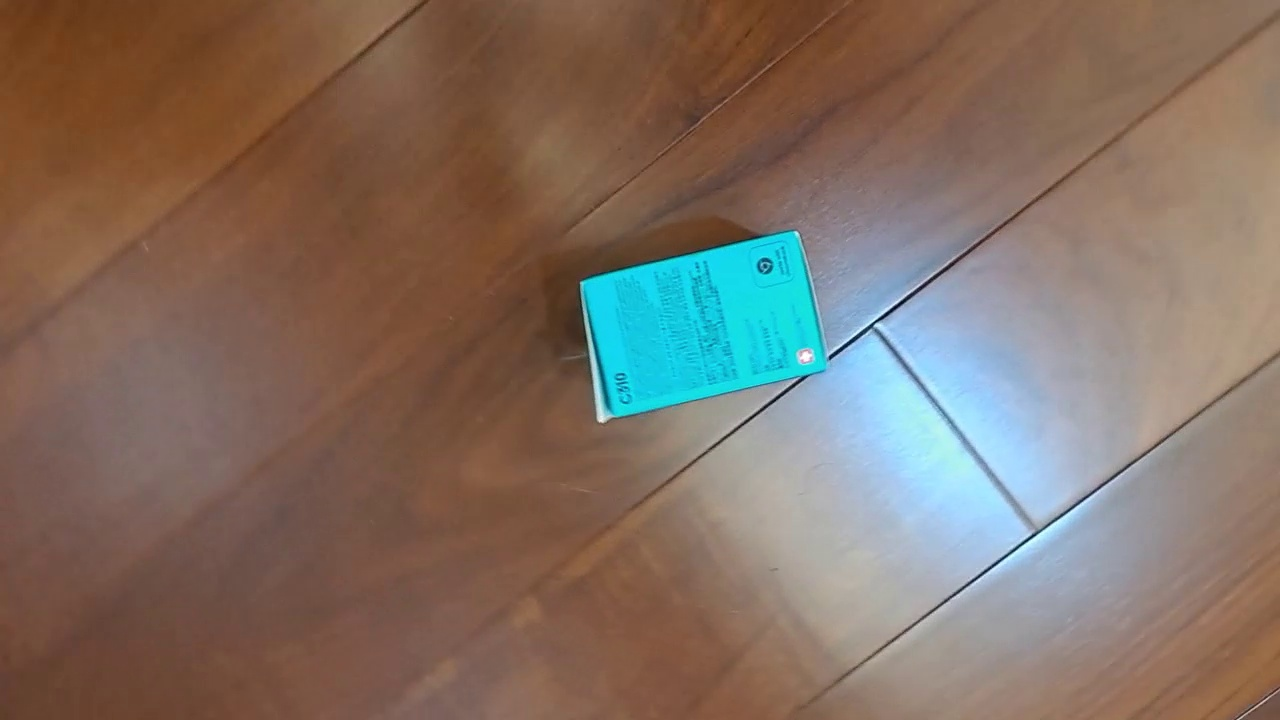webcam: (579, 229, 831, 423)
